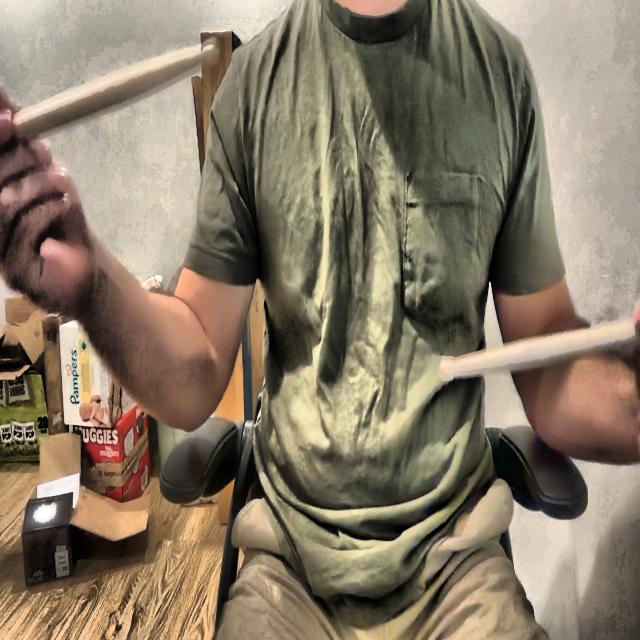Drumstick-Heads: (436, 351, 460, 387), (200, 34, 222, 62)
